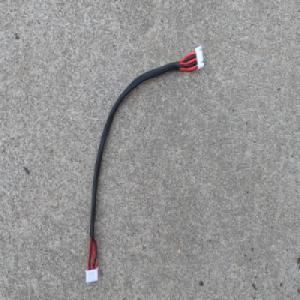Wire: (83, 42, 207, 286)
